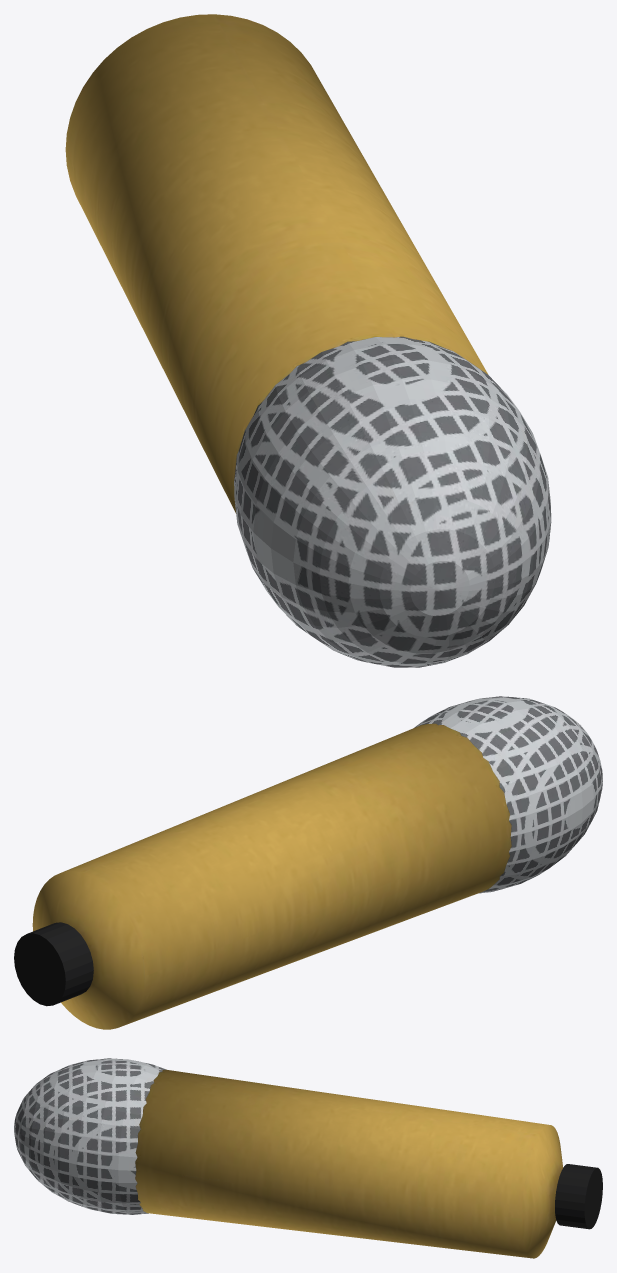
The model's file is studio-gold.glb.
The picture shows the model from 3 angles, top to bottom: view 1: azimuth 30°, elevation 25°; view 2: azimuth 150°, elevation 25°; view 3: azimuth 270°, elevation 25°; orthographic projection. The views are drawn at different scales.
Visible parts, largest first — view 1: gold_mic, mesh_grille; view 2: gold_mic, mesh_grille, mic_black; view 3: gold_mic, mesh_grille, mic_black.
Boxes of the visible parts, left/top/right/bottom form: gold_mic: left=65, top=14, right=488, bottom=513; mesh_grille: left=234, top=336, right=551, bottom=667; gold_mic: left=32, top=723, right=511, bottom=1029; mesh_grille: left=414, top=696, right=602, bottom=893; mic_black: left=14, top=922, right=93, bottom=1006; gold_mic: left=135, top=1069, right=563, bottom=1258; mesh_grille: left=14, top=1058, right=165, bottom=1214; mic_black: left=555, top=1164, right=602, bottom=1229.
Size of the model in its own units: 0.1063 by 0.06 by 0.2271.
Materials: 3 (2 with a texture image).
